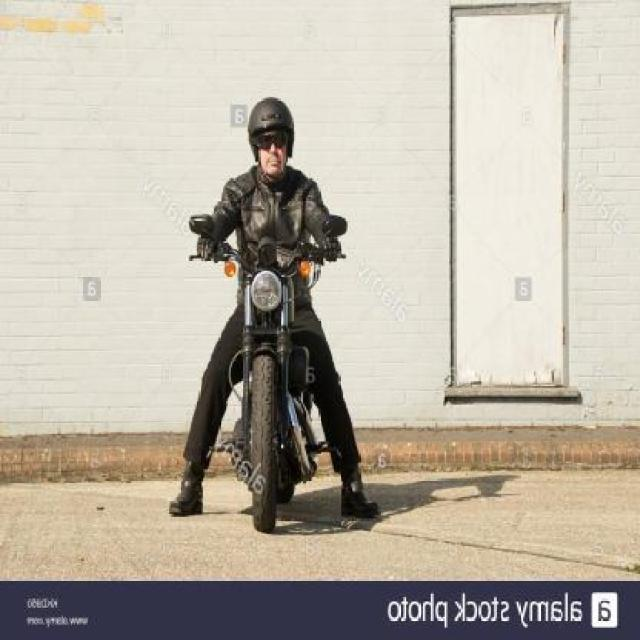helmet: (216, 94, 320, 185)
motorcycle: (128, 76, 412, 544)
